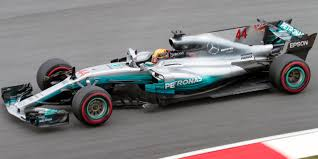FormulaOneCar: (1, 13, 318, 133)
